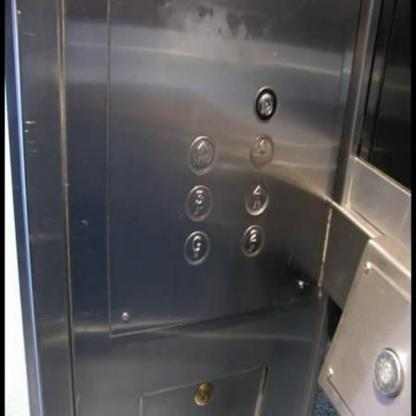2: (241, 223, 264, 258)
3: (183, 182, 214, 224)
4: (243, 177, 270, 216)
G: (182, 229, 211, 266)
blur: (369, 345, 405, 400), (187, 134, 217, 175), (248, 134, 274, 168)
keyhole: (252, 85, 278, 122), (192, 378, 214, 411)
